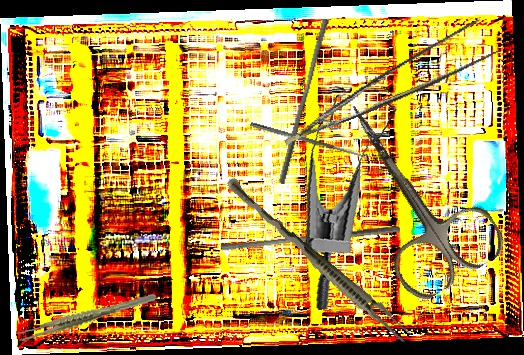Iris Scissors: (308, 75, 511, 307)
Pusher: (278, 17, 330, 186), (220, 218, 401, 258)
Speculum: (283, 78, 424, 311)
Surgical Spoon: (249, 121, 372, 162)
Tissue Forceps: (219, 175, 416, 346), (269, 16, 504, 146), (13, 292, 160, 343)
